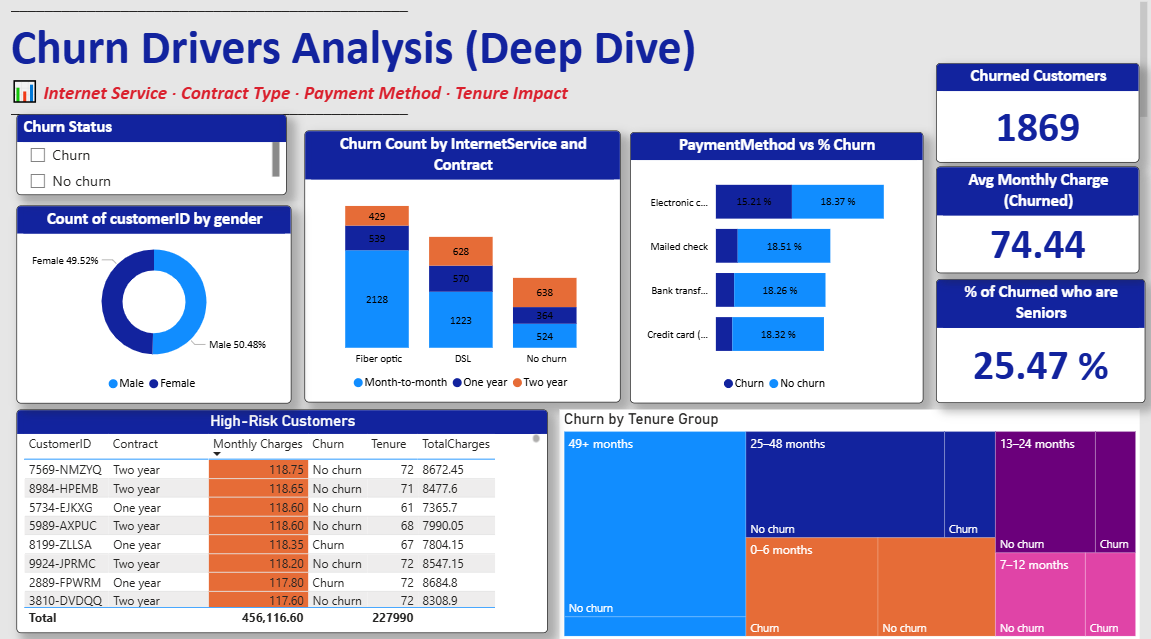

The dashboard page shown, as its layout file describes it:
{"tool":"powerbi","page":{"name":"Churn Drivers ","canvas":[1280,720],"ordinal":1},"visuals":[{"type":"textbox","box":[0,0,1280.7,149.7],"z":0},{"type":"columnChart","title":"Churn Count by InternetService and Contract","fields":{"Category":["Sheet1.InternetService"],"Series":["Sheet1.Contract"],"Y":["CountNonNull(Sheet1.Churn)"]},"box":[332.9,149.7,353.6,304.2],"z":1000},{"type":"barChart","title":"PaymentMethod vs % Churn","fields":{"Category":["Sheet1.PaymentMethod"],"Series":["Sheet1.Churn"],"Y":["Sheet1.% of Customers"]},"box":[697.3,150.1,327.7,303.5],"z":2000},{"type":"treemap","title":"Churn by Tenure Group","fields":{"Group":["Sheet1.Tenure Group1"],"Details":["Sheet1.Churn"],"Values":["CountNonNull(Sheet1.customerID)"]},"box":[618.2,461.6,648.9,258.3],"z":3000},{"type":"tableEx","title":"High-Risk Customers","fields":{"Values":["Sheet1.customerID","Sheet1.Contract","Sum(Sheet1.MonthlyCharges)","Sheet1.Churn","Sum(Sheet1.tenure)","Sheet1.TotalCharges"]},"box":[11.3,461.6,594,250.2],"z":4000},{"type":"donutChart","fields":{"Y":["CountNonNull(Sheet1.customerID)"],"Category":["Sheet1.gender"]},"box":[11.2,232.6,307.4,221.4],"z":5000},{"type":"slicer","title":"Churn Status","fields":{"Values":["Sheet1.Churn"]},"box":[11.3,130.7,301.8,90.4],"z":6000},{"type":"card","title":"Churned Customers","fields":{"Values":["Sheet1.Churned Customers"]},"box":[1039.5,74.2,227.6,111.4],"z":7000},{"type":"card","title":"% of Churned who are Seniors","fields":{"Values":["customer_churn_cohort.% Senior Churn"]},"box":[1039.5,314.8,234,138.8],"z":8000},{"type":"card","title":"Avg Monthly Charge (Churned)","fields":{"Values":["Sheet1.Avg MonthlyCharge Churned"]},"box":[1039.5,188.9,227.6,119.4],"z":9000}]}

Visuals, with their boxes in screenshot pixels (x1, y1, x2, y2), scaled from the page's 1280x720 canvas onto the 1151x639 screenshot:
textbox: (x1=0, y1=0, x2=1150, y2=133)
"Churn Count by InternetService and Contract" columnChart: (x1=299, y1=133, x2=617, y2=403)
"PaymentMethod vs % Churn" barChart: (x1=627, y1=133, x2=922, y2=403)
"Churn by Tenure Group" treemap: (x1=556, y1=410, x2=1139, y2=638)
"High-Risk Customers" tableEx: (x1=10, y1=410, x2=544, y2=632)
donutChart - CountNonNull(Sheet1.customerID) x Sheet1.gender: (x1=10, y1=206, x2=286, y2=403)
"Churn Status" slicer: (x1=10, y1=116, x2=282, y2=196)
"Churned Customers" card: (x1=935, y1=66, x2=1139, y2=165)
"% of Churned who are Seniors" card: (x1=935, y1=279, x2=1145, y2=403)
"Avg Monthly Charge (Churned)" card: (x1=935, y1=168, x2=1139, y2=274)
